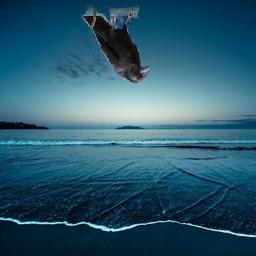Crow: (81, 6, 150, 85)
